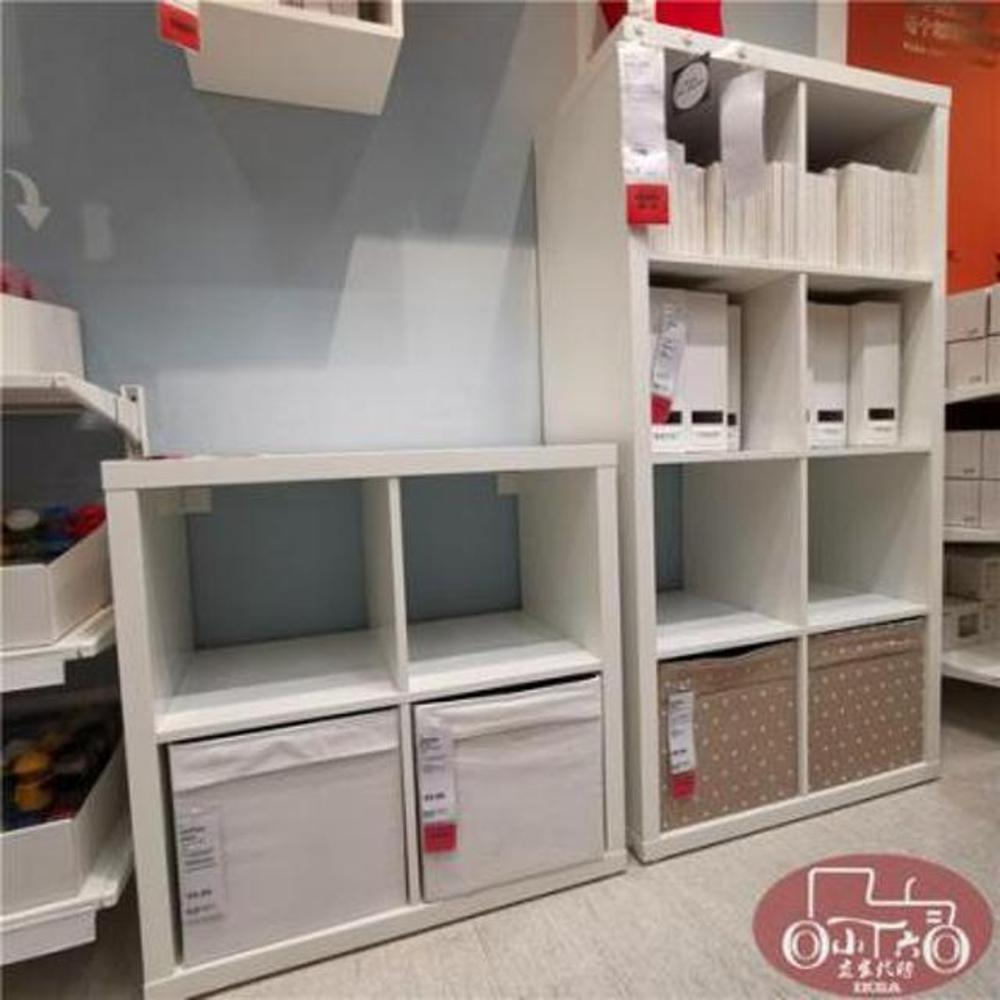lamp: (526, 11, 955, 871), (100, 440, 633, 998)
